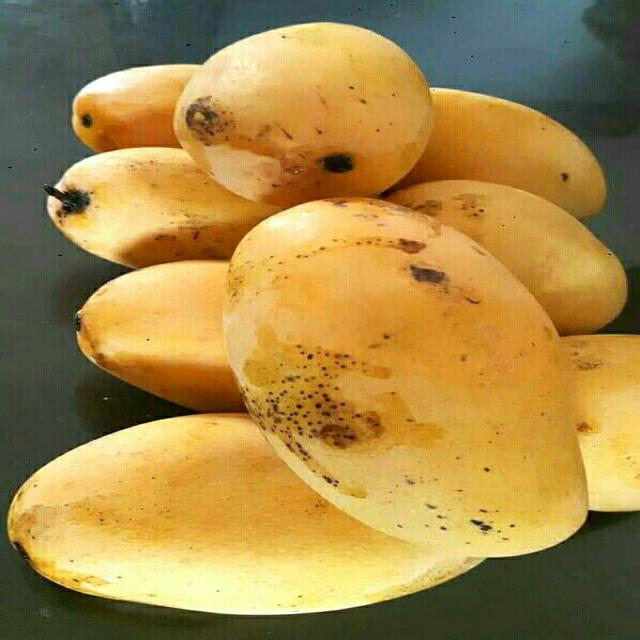mango: (224, 196, 586, 557), (9, 413, 483, 615), (176, 23, 432, 207), (387, 179, 626, 333), (46, 147, 280, 268), (394, 87, 606, 219), (76, 260, 244, 412), (562, 334, 639, 511), (73, 65, 200, 151)
